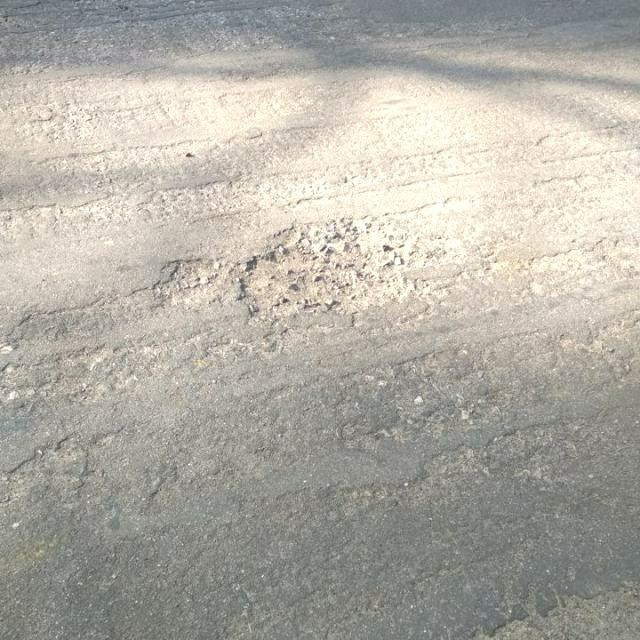Pothole: (236, 221, 414, 316), (156, 254, 236, 310)
